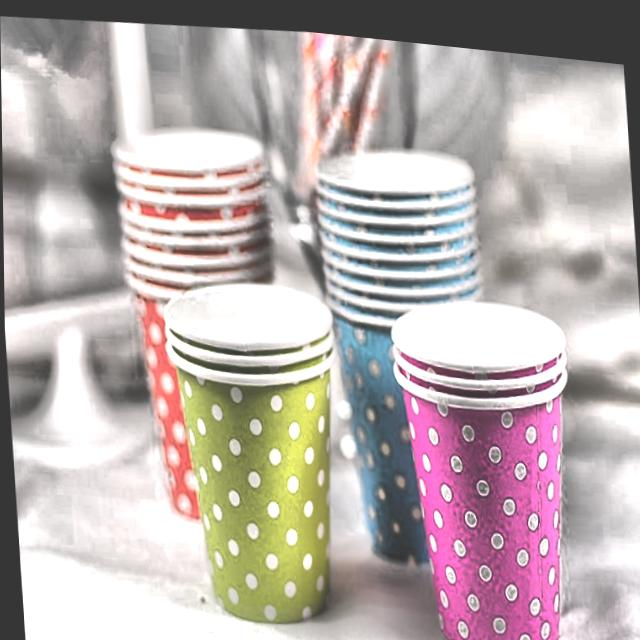Cup: (316, 122, 510, 599), (112, 108, 311, 562), (382, 276, 587, 640), (151, 259, 341, 640)
